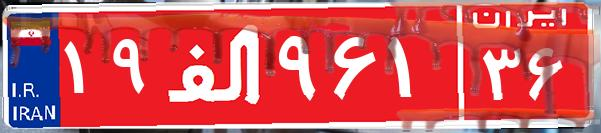1: (385, 28, 445, 110), (57, 26, 110, 107)
3: (475, 38, 525, 113)
6: (330, 28, 385, 110), (525, 38, 570, 115)
9: (273, 28, 330, 110), (110, 28, 158, 105)
الف: (158, 15, 273, 115)
